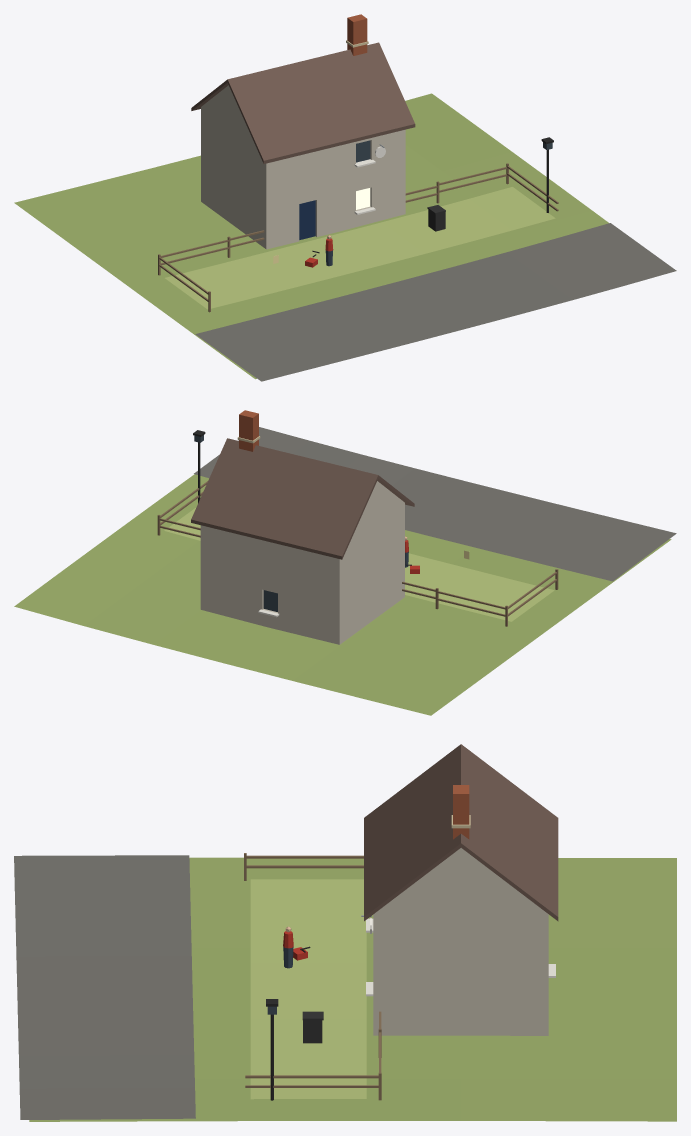
File: last_house.glb
3 views of the same model, one above another, from view 1: azimuth 30°, elevation 25°; view 2: azimuth 150°, elevation 25°; view 3: azimuth 270°, elevation 25° (orthographic). The views are drawn at different scales.
Visible parts, largest first — view 1: ground, ground_lanes, last_house_shell, cut_roof_last_house, ground_areas, boundaries, last_house_walls; view 2: ground, last_house_shell, ground_lanes, cut_roof_last_house, ground_areas, boundaries; view 3: ground, ground_lanes, last_house_shell, ground_areas, cut_roof_last_house, boundaries, prop_last_bin.
Boxes of the visible parts, left/top/right/bottom form: ground: left=14, top=93, right=608, bottom=379; ground_lanes: left=195, top=223, right=676, bottom=381; last_house_shell: left=201, top=85, right=405, bottom=249; cut_roof_last_house: left=191, top=14, right=415, bottom=163; ground_areas: left=165, top=187, right=555, bottom=309; boundaries: left=158, top=163, right=558, bottom=312; last_house_walls: left=299, top=140, right=375, bottom=239; ground: left=14, top=474, right=671, bottom=715; last_house_shell: left=200, top=481, right=404, bottom=644; ground_lanes: left=194, top=427, right=676, bottom=581; cut_roof_last_house: left=191, top=410, right=414, bottom=559; ground_areas: left=164, top=507, right=554, bottom=621; boundaries: left=157, top=481, right=558, bottom=626; ground: left=29, top=857, right=676, bottom=1121; ground_lanes: left=14, top=855, right=195, bottom=1119; last_house_shell: left=373, top=848, right=548, bottom=1035; ground_areas: left=250, top=879, right=366, bottom=1099; cut_roof_last_house: left=364, top=744, right=558, bottom=921; boundaries: left=244, top=853, right=381, bottom=1100; prop_last_bin: left=302, top=1011, right=323, bottom=1043.
Bounding box in the file's own units: 24.06 × 10.23 × 24.57.
